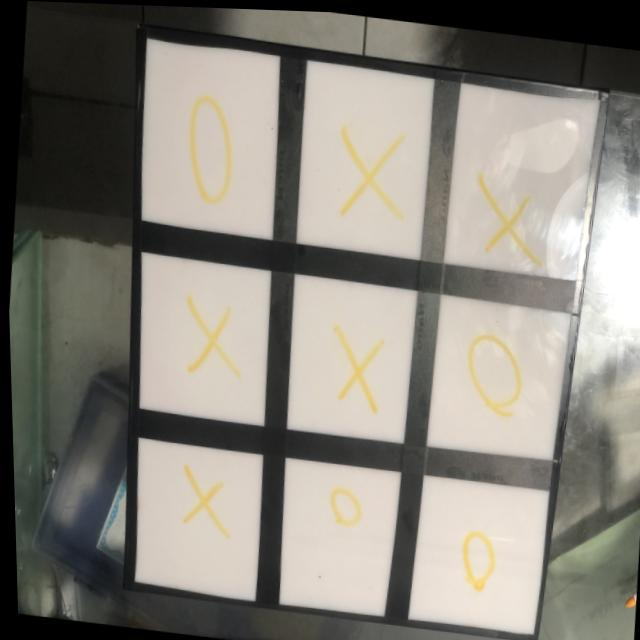o: (454, 313, 528, 417), (177, 86, 240, 206), (452, 521, 503, 596), (318, 474, 368, 536)
table: (67, 25, 607, 640)
x: (336, 117, 411, 220), (469, 165, 551, 259), (176, 289, 244, 383), (327, 317, 385, 409), (171, 462, 230, 544)
